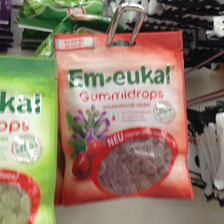candy: (52, 32, 195, 199), (1, 55, 70, 221)
